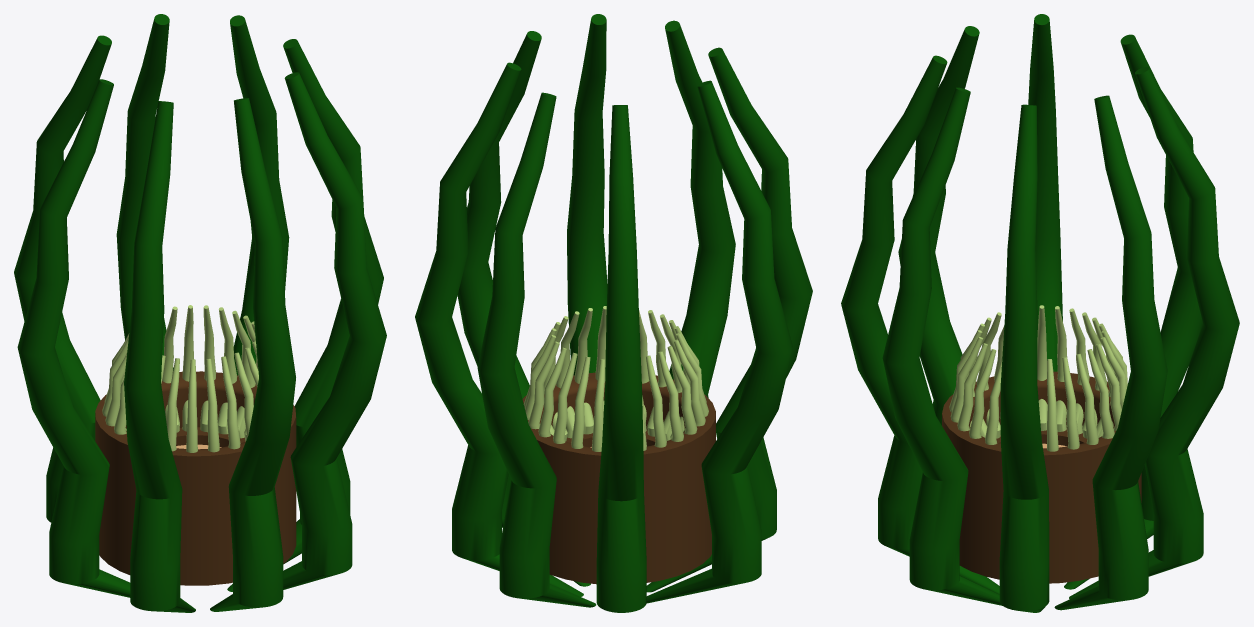
The model's file is MrRacine.fbx.
The picture shows the model from 3 angles, left to right: view 1: azimuth 30°, elevation 25°; view 2: azimuth 150°, elevation 25°; view 3: azimuth 270°, elevation 25°; orthographic projection.
Visible parts, largest first — view 1: Cylinder, Cylinder.001, Cylinder.002; view 2: Cylinder, Cylinder.001, Cylinder.002; view 3: Cylinder, Cylinder.001, Cylinder.002.
Boxes of the visible parts, left/top/right/bottom form: Cylinder: left=14, top=14, right=386, bottom=612; Cylinder.001: left=95, top=371, right=296, bottom=585; Cylinder.002: left=102, top=305, right=258, bottom=452; Cylinder: left=415, top=14, right=812, bottom=612; Cylinder.001: left=522, top=372, right=715, bottom=584; Cylinder.002: left=523, top=306, right=708, bottom=451; Cylinder: left=841, top=14, right=1239, bottom=612; Cylinder.001: left=942, top=371, right=1141, bottom=583; Cylinder.002: left=949, top=305, right=1127, bottom=451.
Size of the model in its own units: 80.31 by 118 by 79.88.
